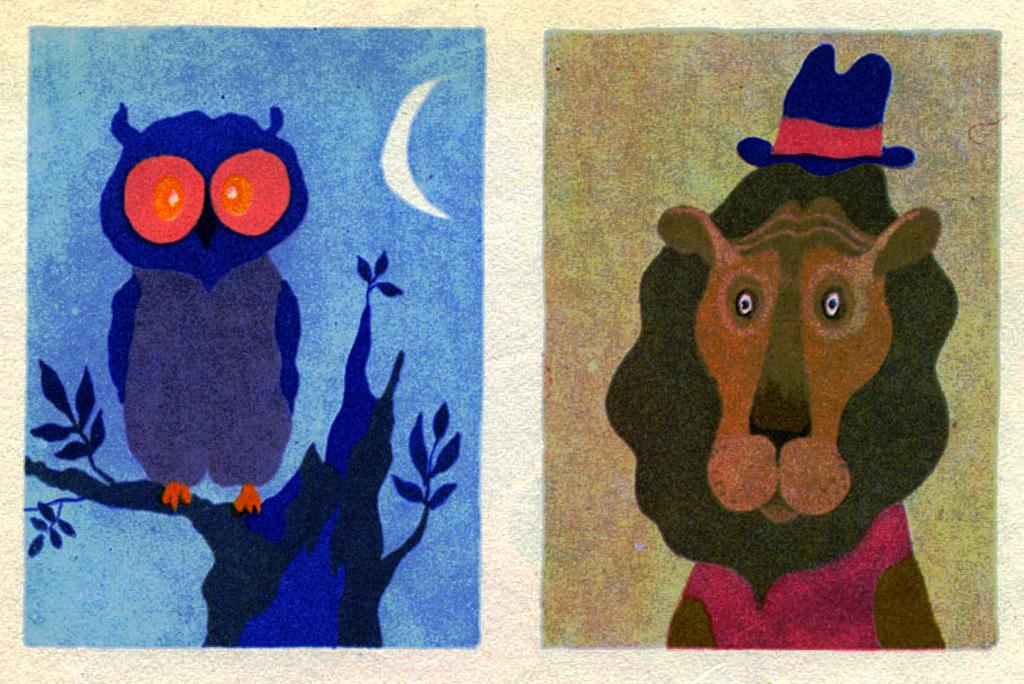Owl: (97, 97, 326, 520)
